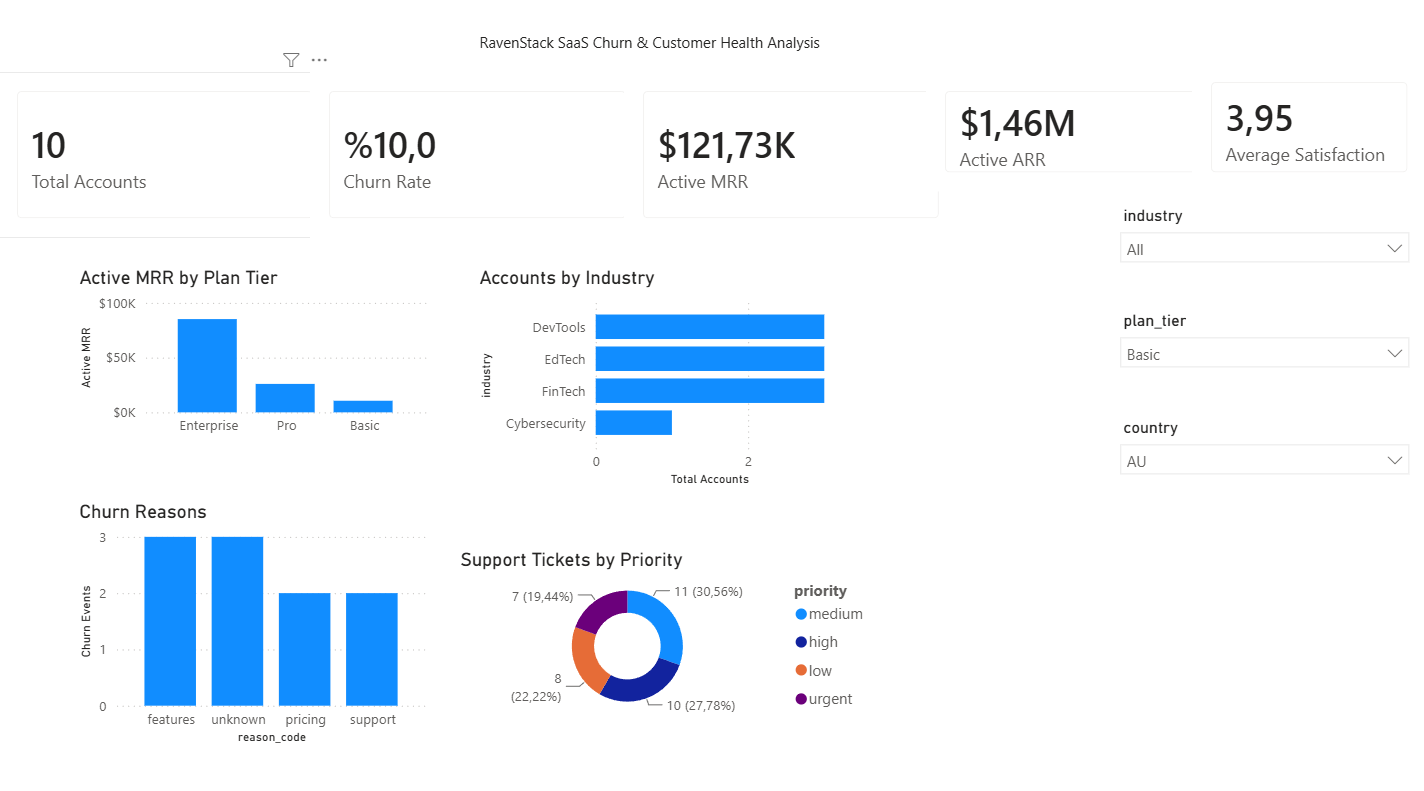

The page's visual inventory and layout, read from the dashboard file:
{"tool":"powerbi","page":{"name":"Executive Overview","canvas":[1280,720],"ordinal":0},"visuals":[{"type":"textbox","box":[426.3,28.6,330.9,40.3],"z":0},{"type":"cardVisual","fields":{"Data":["accounts.Total Accounts"]},"box":[0,69,299.4,148.8],"z":1000},{"type":"cardVisual","fields":{"Data":["accounts.Churn Rate"]},"box":[279.4,69,300.9,148.7],"z":2000},{"type":"cardVisual","fields":{"Data":["accounts.Total MRR"]},"box":[560.6,69,299.1,148.7],"z":3000},{"type":"cardVisual","fields":{"Data":["accounts.Total ARR"]},"box":[831,69,284.8,107.5],"z":4000},{"type":"cardVisual","title":"Avg Satisfaction/5","fields":{"Data":["accounts.Average Satisfaction"]},"box":[1069.4,61,210.6,115.6],"z":5000},{"type":"clusteredColumnChart","title":"Active MRR by Plan Tier","fields":{"Category":["subscriptions.plan_tier"],"Y":["accounts.Total MRR"]},"box":[68,243,321.2,161],"z":6000},{"type":"barChart","title":"Accounts by Industry","fields":{"Category":["accounts.industry"],"Y":["accounts.Total Accounts"]},"box":[426.7,242.9,322.7,201.7],"z":7000},{"type":"columnChart","title":"Churn Reasons","fields":{"Category":["churn_events.reason_code"],"Y":["accounts.Churn Events"]},"box":[68.1,452.7,320.9,223.2],"z":8000},{"type":"donutChart","title":"Support Tickets by Priority","fields":{"Category":["support_tickets.priority"],"Y":["accounts.Total Tickets"]},"box":[409.3,495.2,379.7,156.7],"z":9000},{"type":"slicer","title":"Industry","fields":{"Values":["accounts.industry"]},"box":[994.9,184.5,278.5,89.6],"z":10000},{"type":"slicer","title":"Country","fields":{"Values":["accounts.country"]},"box":[995,374.7,278.8,89.6],"z":11000},{"type":"slicer","title":"Plan Tier","fields":{"Values":["accounts.plan_tier"]},"box":[995,278.8,278.8,89.6],"z":12000}]}

Visuals, with their boxes in screenshot pixels (x1, y1, x2, y2), scaled from the page's 1280x720 canvas onto the 1424x791 screenshot:
textbox: {"x1": 474, "y1": 31, "x2": 842, "y2": 76}
cardVisual - accounts.Total Accounts: {"x1": 0, "y1": 76, "x2": 333, "y2": 239}
cardVisual - accounts.Churn Rate: {"x1": 311, "y1": 76, "x2": 646, "y2": 239}
cardVisual - accounts.Total MRR: {"x1": 624, "y1": 76, "x2": 956, "y2": 239}
cardVisual - accounts.Total ARR: {"x1": 924, "y1": 76, "x2": 1241, "y2": 194}
"Avg Satisfaction/5" cardVisual: {"x1": 1190, "y1": 67, "x2": 1423, "y2": 194}
"Active MRR by Plan Tier" clusteredColumnChart: {"x1": 76, "y1": 267, "x2": 433, "y2": 444}
"Accounts by Industry" barChart: {"x1": 475, "y1": 267, "x2": 834, "y2": 488}
"Churn Reasons" columnChart: {"x1": 76, "y1": 497, "x2": 433, "y2": 743}
"Support Tickets by Priority" donutChart: {"x1": 455, "y1": 544, "x2": 878, "y2": 716}
"Industry" slicer: {"x1": 1107, "y1": 203, "x2": 1417, "y2": 301}
"Country" slicer: {"x1": 1107, "y1": 412, "x2": 1417, "y2": 510}
"Plan Tier" slicer: {"x1": 1107, "y1": 306, "x2": 1417, "y2": 405}
